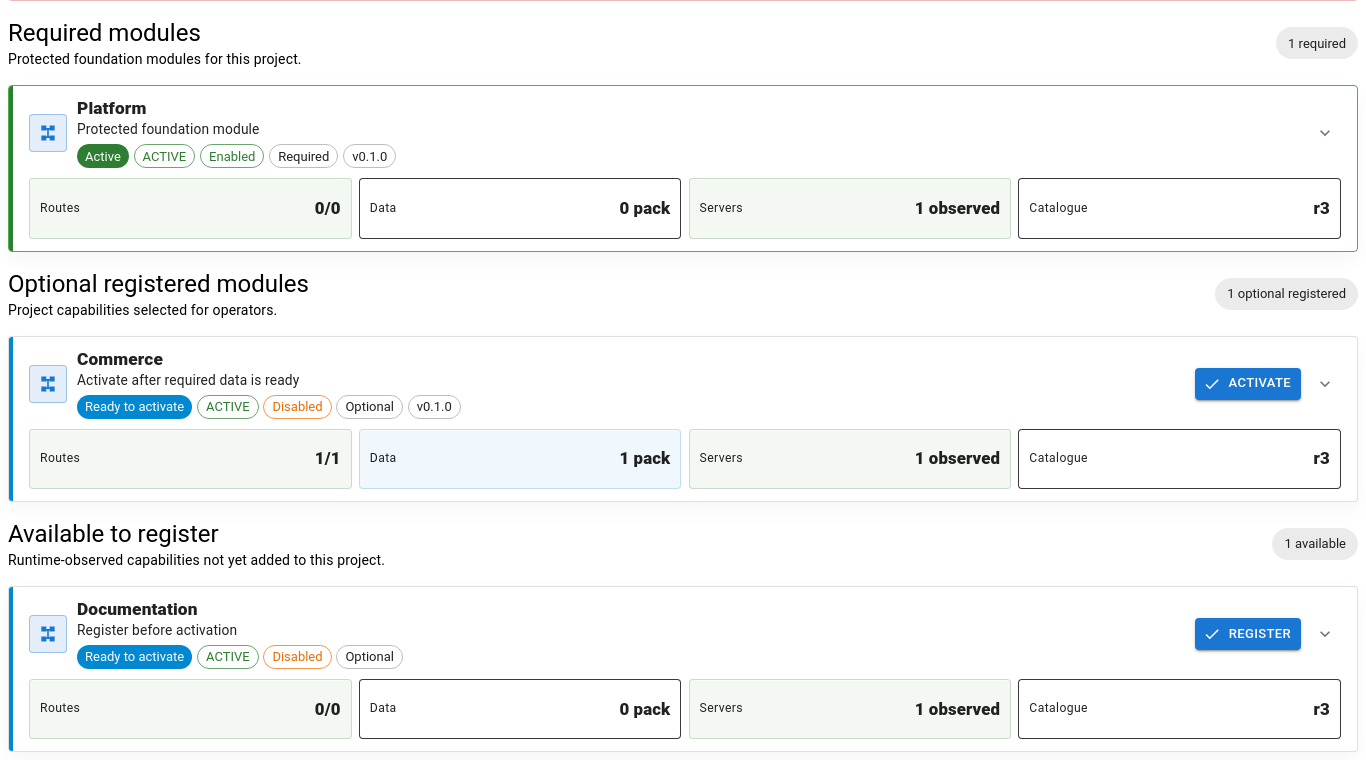
Test: FunctionalModuleRegistryRoutePage › renders a compact control center with expandable module details
This screenshot has width=1366, height=760.
(page scrolled)
Expected: the text "Protected foundation modules for this project." is shown, [8, 49, 302, 69]
Expected: the text "Project capabilities selected for operators." is shown, [8, 300, 309, 320]
Click the button named "Expand Commerce".
click(1325, 384)  # box [1309, 368, 1341, 400]
(page scrolled)
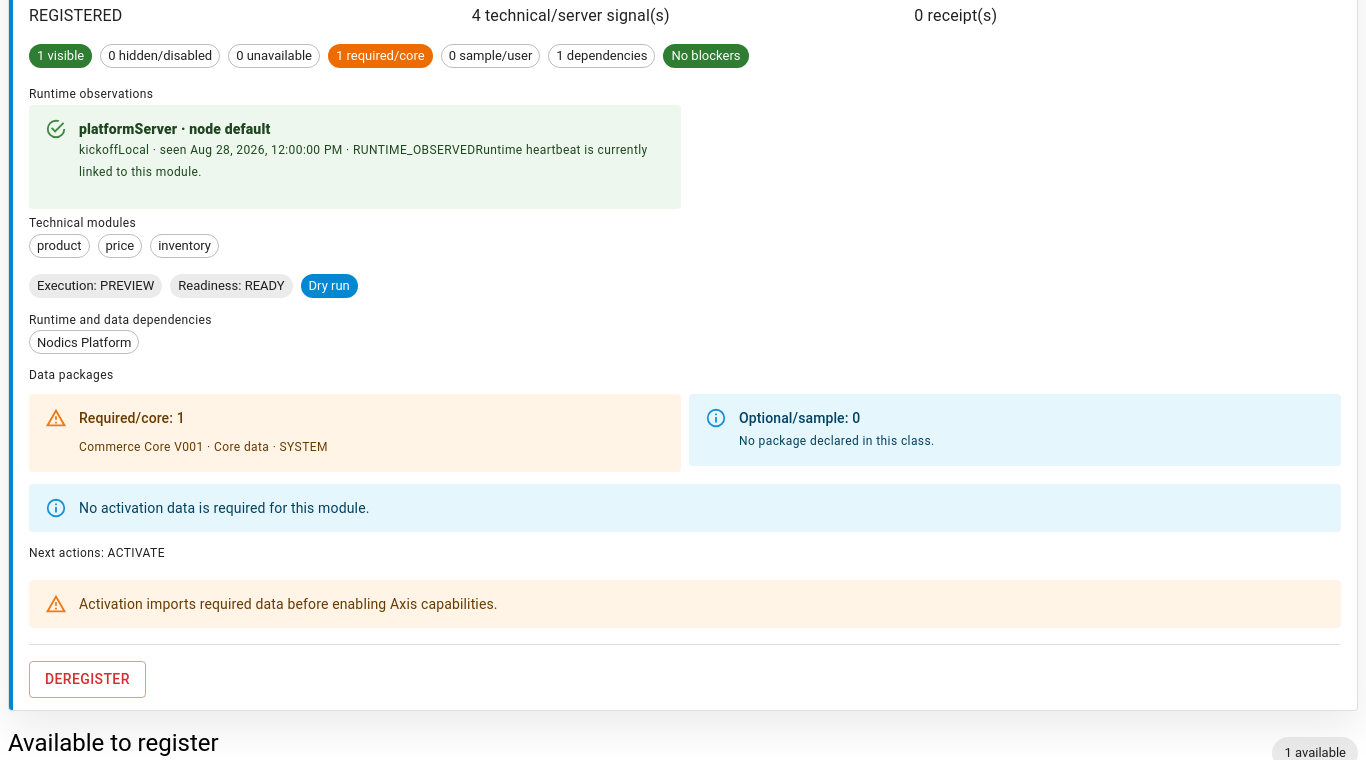
Expected: the text "Runtime observations" is shown, [29, 87, 153, 101]
Expected: the text "Data packages" is shown, [29, 368, 114, 382]
